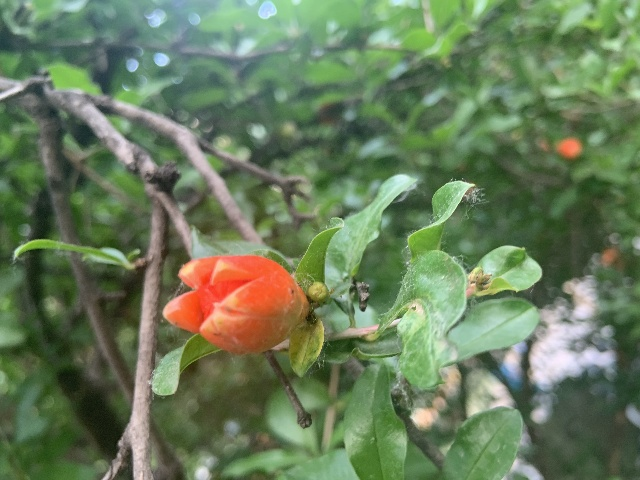flower: (162, 254, 307, 355)
